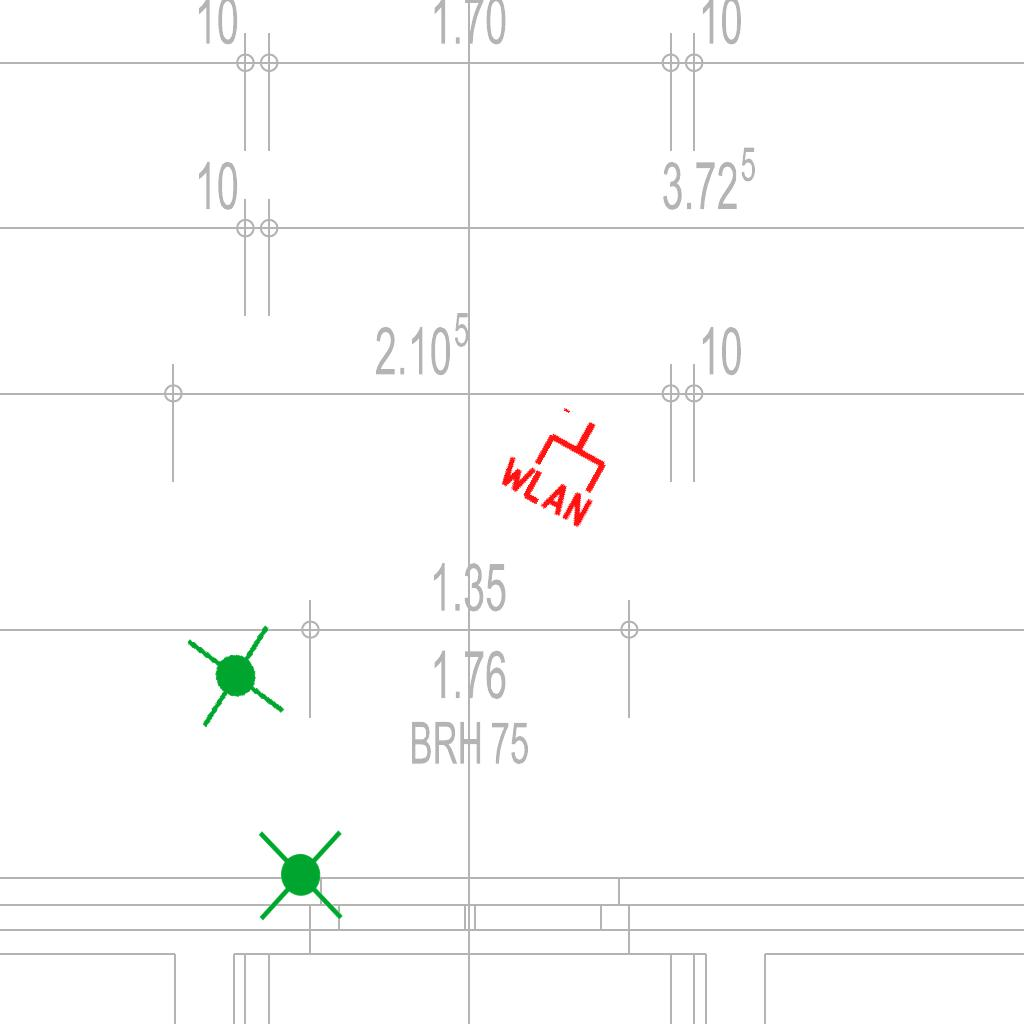Notlichtbaustein_in_Allgemeinbeleuchtug_engebaut_Einbau_(1UG_und_2UG_Aufbauvaria: (175, 617, 294, 735), (248, 825, 351, 925)
WLAN: (490, 389, 633, 533)
